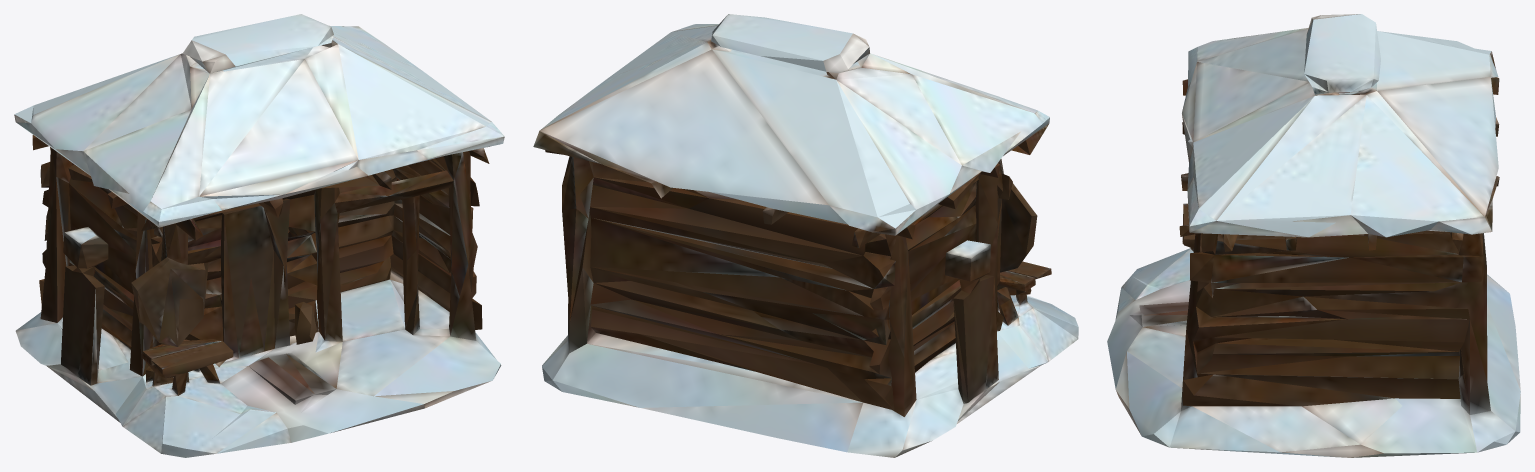
The model's file is guardhouse.glb.
The picture shows the model from 3 angles, left to right: view 1: azimuth 30°, elevation 25°; view 2: azimuth 150°, elevation 25°; view 3: azimuth 270°, elevation 25°; orthographic projection. The views are drawn at different scales.
Size of the model in its own units: 1.89 by 1.51 by 1.75.
1 material, 1 textured.
